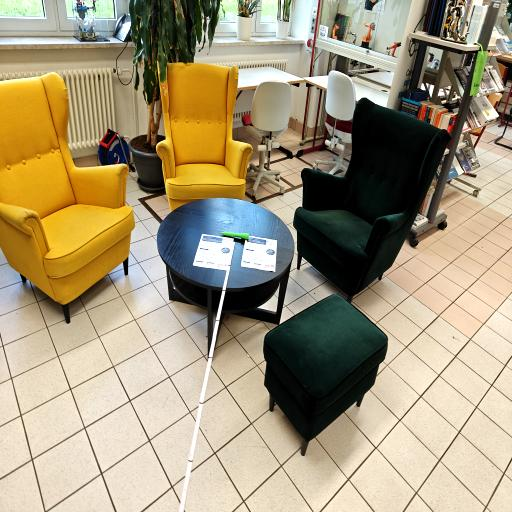Probe-Detection: (220, 232, 249, 240)
